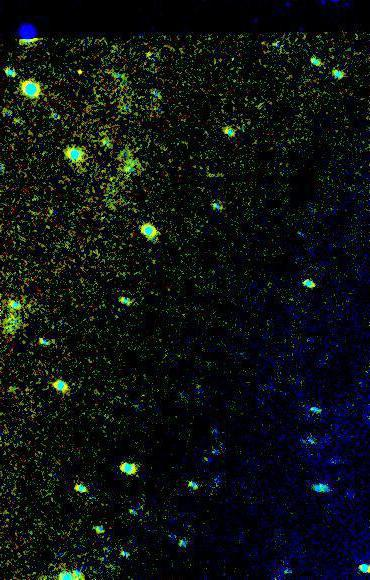star: (62, 58, 92, 88)
